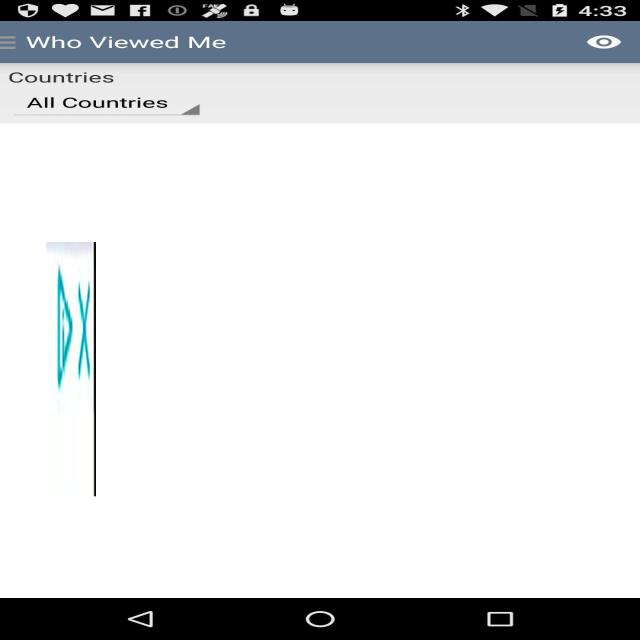sneaking: (46, 242, 96, 496)
